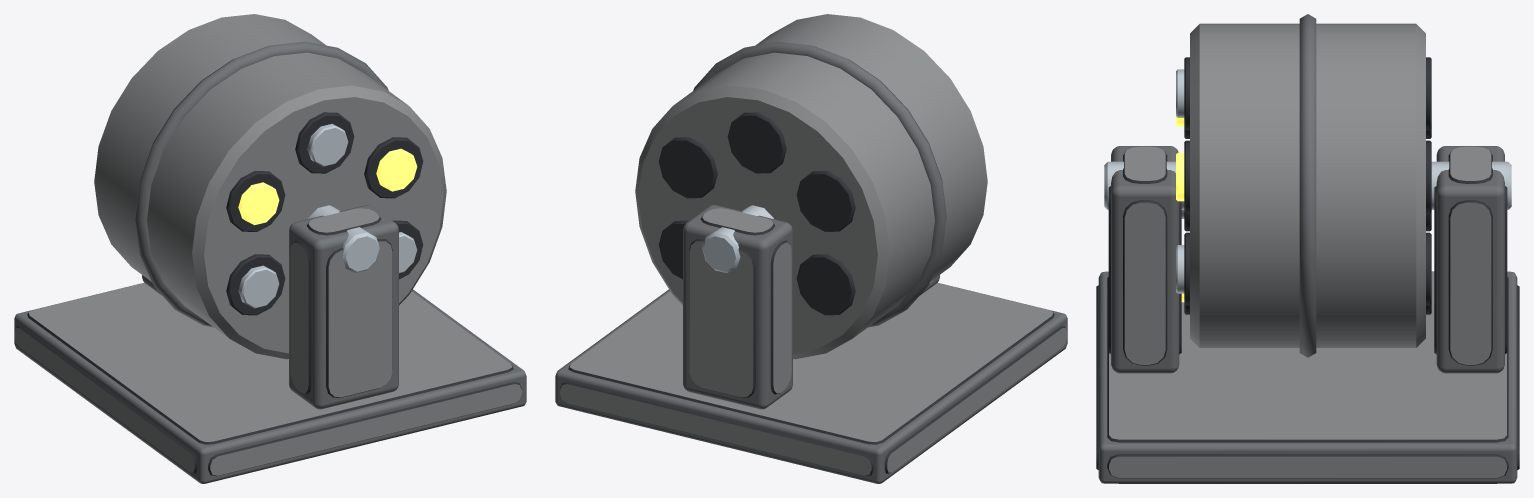
The model's file is R4X_ReloadBooster.glb.
3 views of the same model, side by side, from view 1: azimuth 30°, elevation 25°; view 2: azimuth 150°, elevation 25°; view 3: azimuth 270°, elevation 25° (orthographic). The views are drawn at different scales.
Parts seen in each view (by area): view 1: R4X_ReloadBooster_Drum, R4X_ReloadBooster_Body; view 2: R4X_ReloadBooster_Drum, R4X_ReloadBooster_Body; view 3: R4X_ReloadBooster_Body, R4X_ReloadBooster_Drum.
Boxes of the visible parts, box(x1,y1,x2,y2) form: R4X_ReloadBooster_Drum: box(94, 14, 446, 359); R4X_ReloadBooster_Body: box(14, 204, 526, 483); R4X_ReloadBooster_Drum: box(635, 14, 987, 359); R4X_ReloadBooster_Body: box(555, 204, 1067, 483); R4X_ReloadBooster_Body: box(1096, 146, 1519, 483); R4X_ReloadBooster_Drum: box(1176, 14, 1431, 357).
Bounding box in the file's own units: 0.52 × 0.502 × 0.52.
